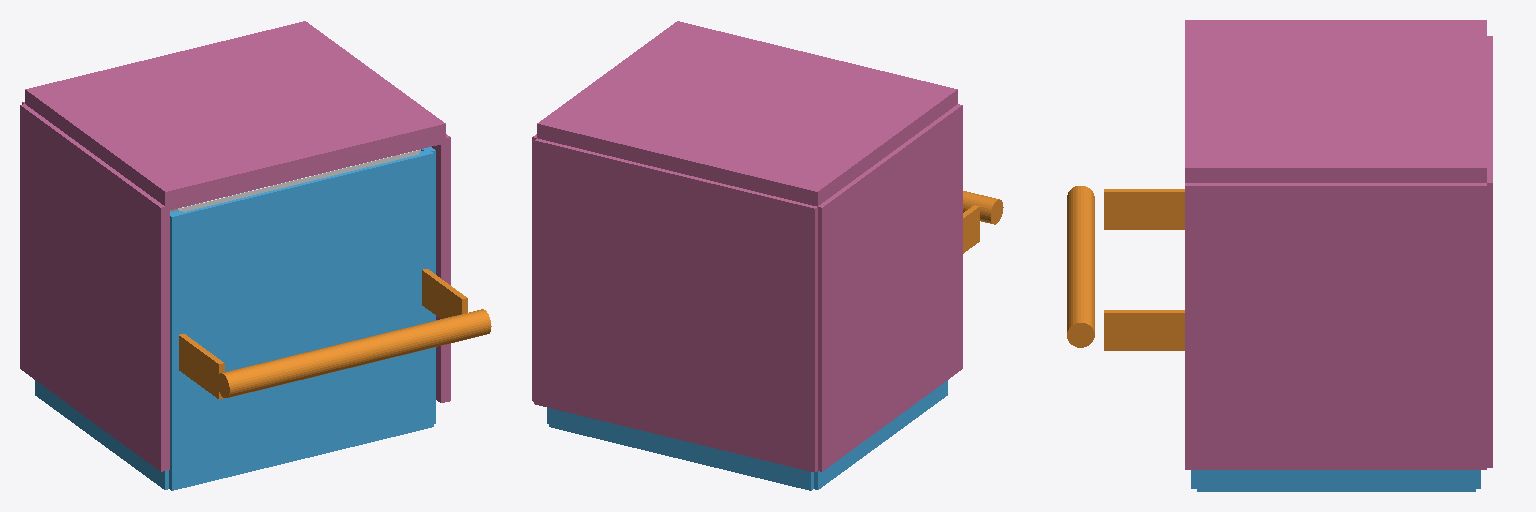
robot.urdf — bowl.urdf:
<?xml version="0.0" ?>
<robot name="bowl.urdf">

  <material name="yellow">
    <color rgba="1 1 0.4 1"/>
  </material>
  <material name="red">
    <color rgba="1 0 0 1"/>
  </material>
  <material name="blue">
    <color rgba=".17 .20 .38 1"/>
  </material>
  <material name="teal">
    <color rgba="0 .5 .5 1"/>
  </material>
  <material name="orange">
    <color rgba=".93 .6 .23 1"/>
  </material>

  <link name="world"/>

  <link name="base">
    <contact>
      <rolling_friction value="10.0"/>
      <lateral_friction value="10.0"/>
      <spinning_friction value="10.0"/>
    </contact>
    <inertial>
      <origin rpy="0 0 0" xyz="0.0 0.0 0.0"/>
       <mass value="0.1"/>
       <inertia ixx="1" ixy="0" ixz="0" iyy="1" iyz="0" izz="1"/>
    </inertial>
    <visual>
      <origin rpy="0 0 0" xyz="0 0 -0.2"/>
      <geometry>
        <box size="1.4 1.2 .1"/>
      </geometry>
    </visual>
    <visual>
      <!-- right -->
      <origin rpy="0 0 0" xyz="0 -.6 0"/>
      <geometry>
        <box size="1.4 .05 1.4"/>
      </geometry>
    </visual>
    <visual>
      <!-- left -->
      <origin rpy="0 0 0" xyz="0 .6 0"/>
      <geometry>
        <box size="1.4 .05 1.4"/>
      </geometry>
    </visual>
    <visual>
      <!-- front -->
      <origin rpy="0 0 0" xyz=".7 0 0"/>
      <geometry>
        <box size=".05 1.2 1.4"/>
      </geometry>
    </visual>
    <visual>
      <!-- back -->
      <origin rpy="0 0 0" xyz="-.7 0 0"/>
      <geometry>
        <box size=".05 1.2 1.4"/>
      </geometry>
    </visual>

    <collision>
      <!--Bottom --> 
      <origin rpy="0 0 0" xyz="0 0 -.2"/>
      <geometry>
        <box size="1.4 1.2 .1"/>
      </geometry>
    </collision>
    <collision>
      <!-- right -->
      <origin rpy="0 0 0" xyz="0 -.6 0"/>
      <geometry>
        <box size="1.4 .05 1.4"/>
      </geometry>
    </collision>
    <collision>
      <!-- left -->
      <origin rpy="0 0 0" xyz="0 .6 0"/>
      <geometry>
        <box size="1.4 .05 1.4"/>
      </geometry>
    </collision>
    <collision>
      <!-- front -->
      <origin rpy="0 0 0" xyz=".7 0 0"/>
      <geometry>
        <box size=".05 1.2 1.4"/>
      </geometry>
    </collision>
    <collision>
      <!-- back -->
      <origin rpy="0 0 0" xyz="-.7 0 0"/>
      <geometry>
        <box size=".05 1.2 1.4"/>
      </geometry>
    </collision>
  </link>

  <link name="tray">
    <contact>
      <lateral_friction value="10.0"/>
      <rolling_friction value="10.0"/>
      <spinning_friction value="10.0"/>
      <contact_cfm value="0.0"/>
      <contact_erp value="1.0"/>
    </contact>
    <inertial>
      <origin rpy="0 0 -3.14" xyz="0 0 -0.15"/>
      <mass value="0"/>
      <inertia ixx="0" ixy="0" ixz="0" iyy="0" iyz="0" izz="0"/>
    </inertial>
    <visual>
      <origin rpy="0 0 -3.14" xyz="0 0 -0.15"/>
      <geometry>
        <mesh filename="../tray/tray_textured4_no_color.obj" scale="1.1 0.95 3.5"/>
      </geometry>
      <material name="tray_material">
        <color rgba="1 1 1 1"/>
      </material>
    </visual>
    <collision>
      <origin rpy="0 0 -3.14" xyz="0 0 -0.15"/>
      <geometry>
        <mesh filename="../tray/tray_textured4_no_color.obj" scale="1.1 0.95 1"/>
      </geometry>
    </collision>
  </link>

  <link name="handle_r">
    <contact>
      <rolling_friction value="1000.0"/>
      <lateral_friction value="1000.0"/>
      <!-- lateral_friction was key to not making the gripper slide on the handle--> 
      <spinning_friction value="1000.0"/>
      <contact_cfm value="0.0"/>
      <contact_erp value="1.0"/>
    </contact>
    <inertial>
      <origin rpy="0 1.57 0" xyz="0 0 0"/>
      <mass value=".1"/>
      <inertia ixx="1" ixy="0" ixz="0" iyy="1" iyz="0" izz="1"/>
    </inertial>
    <visual>
      <origin rpy="0 1.57 0" xyz="0 0 0"/>
      <geometry>
        <cylinder radius="0.06" length="1.4"/>
      </geometry>
      <material name="orange"/>
    </visual>
    <collision>
      <origin rpy="0 1.57 0" xyz="0 0 0"/>
      <geometry>
        <cylinder radius="0.06" length="1.4"/>
      </geometry>
    </collision>
  </link>

  <link name="handle_plate_far">
    <contact>
      <rolling_friction value="1000.0"/>
      <lateral_friction value="1000.0"/>
      <spinning_friction value="1000.0"/>
      <contact_cfm value="0.0"/>
      <contact_erp value="1.0"/>
    </contact>
    <inertial>
      <origin rpy="0 1.57 0" xyz="0 0 0"/>
      <mass value=".1"/>
      <inertia ixx="1" ixy="0" ixz="0" iyy="1" iyz="0" izz="1"/>
    </inertial>
    <visual>
      <origin rpy="0 0 0" xyz="0 0 0"/>
      <geometry>
        <box size=".03 .6 .18"/>
      </geometry>
      <material name="orange"/>
    </visual>
    <collision>
      <origin rpy="0 0 0" xyz="0 0 0"/>
      <geometry>
        <box size=".03 .6 .18"/>
      </geometry>
    </collision>
  </link>

  <link name="handle_plate_near">
    <contact>
      <rolling_friction value="1000.0"/>
      <lateral_friction value="1000.0"/>
      <spinning_friction value="1000.0"/>
      <contact_cfm value="0.0"/>
      <contact_erp value="1.0"/>
    </contact>
    <inertial>
      <origin rpy="0 1.57 0" xyz="0 0 0"/>
      <mass value=".1"/>
      <inertia ixx="1" ixy="0" ixz="0" iyy="1" iyz="0" izz="1"/>
    </inertial>
    <visual>
      <origin rpy="0 0 0" xyz="0 0 0"/>
      <geometry>
        <box size=".03 .6 .18"/>
      </geometry>
      <material name="orange"/>
    </visual>
    <collision>
      <origin rpy="0 0 0" xyz="0 0 0"/>
      <geometry>
        <box size=".03 .6 .18"/>
      </geometry>
    </collision>
  </link>

  <link name="frame">
    <contact>
      <lateral_friction value="0.5"/>
      <rolling_friction value="0.0"/>
      <contact_cfm value="0.0"/>
      <contact_erp value="1.0"/>
    </contact>
    <inertial>
      <origin rpy="0 0 0" xyz="0.0 0.0 0.0"/>
       <mass value=".1"/>
       <inertia ixx="1" ixy="0" ixz="0" iyy="1" iyz="0" izz="1"/>
    </inertial>
    <visual>
      <!--Top-->
      <origin rpy="0 0 0" xyz="0 0 .7"/>
      <geometry>
        <box size="1.5 1.3 .1"/>
      </geometry>
    </visual>
    <visual>
      <!--Right-->
      <origin rpy="0 0 0" xyz="0 .65 0"/>
      <geometry>
        <box size="1.5 .05 1.35"/>
      </geometry>
    </visual>
    <visual>
      <!--Front-->
      <origin rpy="0 0 0" xyz=".75 0 0"/>
      <geometry>
        <box size=".05 1.3 1.35"/>
      </geometry>
    </visual>
    <visual>
      <!--Back-->
      <origin rpy="0 0 0" xyz="-.75 0 0"/>
      <geometry>
        <box size=".05 1.3 1.35"/>
      </geometry>
    </visual>

    <collision>
      <!--Top-->
      <origin rpy="0 0 0" xyz="0 0 .7"/>
      <geometry>
        <box size="1.5 1.3 .1"/>
      </geometry>
    </collision>
    <collision>
      <!--Right-->
      <origin rpy="0 0 0" xyz="0 .65 0"/>
      <geometry>
        <box size="1.5 .05 1.35"/>
      </geometry>
    </collision>
    <collision>
      <!--Front-->
      <origin rpy="0 0 0" xyz=".75 0 0"/>
      <geometry>
        <box size=".05 1.3 1.35"/>
      </geometry>
    </collision>
    <collision>
      <!--Back-->
      <origin rpy="0 0 0" xyz="-.75 0 0"/>
      <geometry>
        <box size=".05 1.3 1.35"/>
      </geometry>
    </collision>
  </link>

  <joint name="frame_joint" type="fixed">
    <parent link="world"/>
    <child link="frame"/>
  </joint>

  <joint name="base_frame_joint" type="prismatic">
    <origin rpy="0 0 0" xyz="0 0 -.1"/>
    <parent link="frame"/>
    <child link="base"/>
    <axis rpy="0 0 0" xyz="0 1 0"/>
    <limit effort="100" lower="-1.25" upper="0" velocity="100"/>
    <dynamics damping="0.0" friction=".01"/>
  </joint>

  <joint name="base_tray_joint" type="fixed">
    <origin rpy="0 0 0" xyz="0 0 0"/>
    <parent link="base"/>
    <child link="tray"/>
  </joint>

  <joint name="handle_plate_far_joint" type="fixed">
    <origin rpy="0 0 0" xyz="-0.65 -0.7 0.0"/>
    <parent link="base"/>
    <child link="handle_plate_far"/>
  </joint>

  <joint name="handle_plate_near_joint" type="fixed">
    <origin rpy="0 0 0" xyz="0.65 -0.7 0.03"/>
    <parent link="base"/>
    <child link="handle_plate_near"/>
  </joint>

  <joint name="handle_r_joint" type="fixed">
    <origin rpy="0 0 0" xyz="0 -1.1 0.03"/>
    <parent link="base"/>
    <child link="handle_r"/>
  </joint>

</robot>

--- Facts derived from the render (not from the file) ---
3 views of the same robot in one strip: view 1: azimuth 30°, elevation 25°; view 2: azimuth 150°, elevation 25°; view 3: azimuth 270°, elevation 25° (orthographic).
Model bowl.urdf with 7 links and 6 joints (1 prismatic, 5 fixed), rooted at world, posed all joints at 0.
Links seen in each view (by area): view 1: frame, base, handle_r, handle_plate_far, handle_plate_near, tray; view 2: frame, base, handle_r, handle_plate_far; view 3: frame, base, handle_r, handle_plate_far, handle_plate_near.
Boxes of the visible links, x1,y1,x2,y2 form: frame: (20,21,450,471); base: (35,147,435,490); handle_r: (217,309,491,397); handle_plate_far: (179,334,224,399); handle_plate_near: (422,269,467,318); tray: (170,149,420,211); frame: (532,21,962,472); base: (547,380,947,490); handle_r: (963,191,1003,224); handle_plate_far: (963,205,979,253); frame: (1185,20,1492,469); base: (1191,470,1480,491); handle_r: (1067,186,1094,347); handle_plate_far: (1104,189,1184,229); handle_plate_near: (1104,310,1184,350).
Bounding box of the posed robot: 1.55 × 1.83 × 1.55 m (x, y, z).
Meshes: 1 distinct files referenced, 1 mesh visuals loaded (1 OBJ).